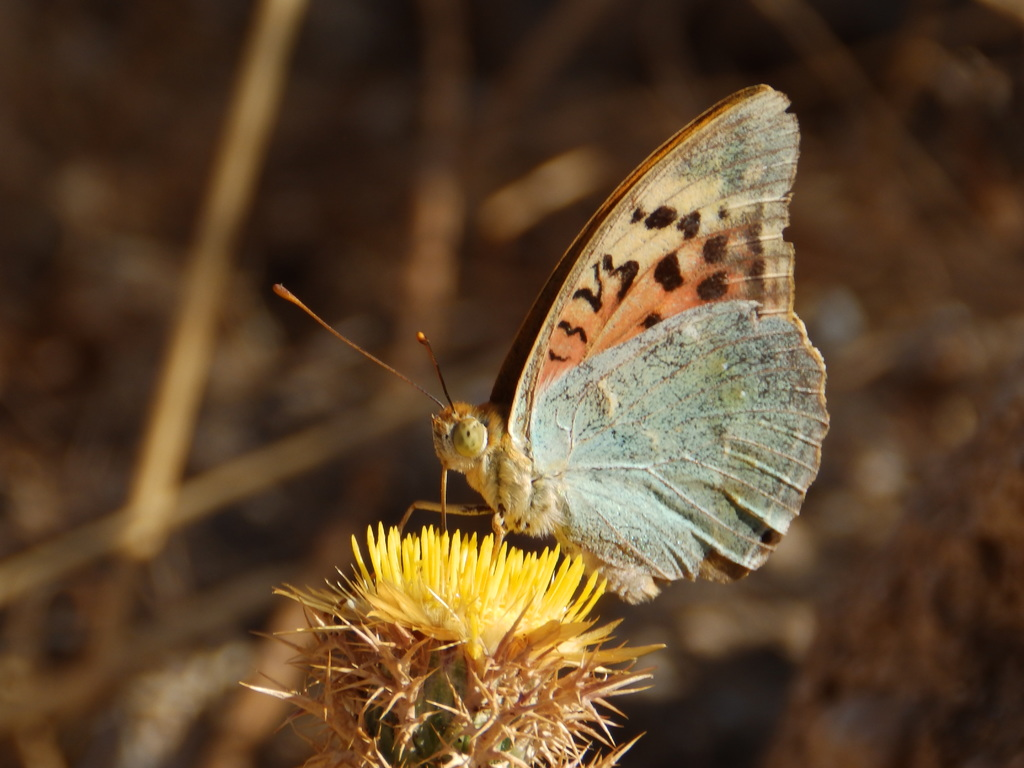Butterfly: (279, 63, 826, 606)
